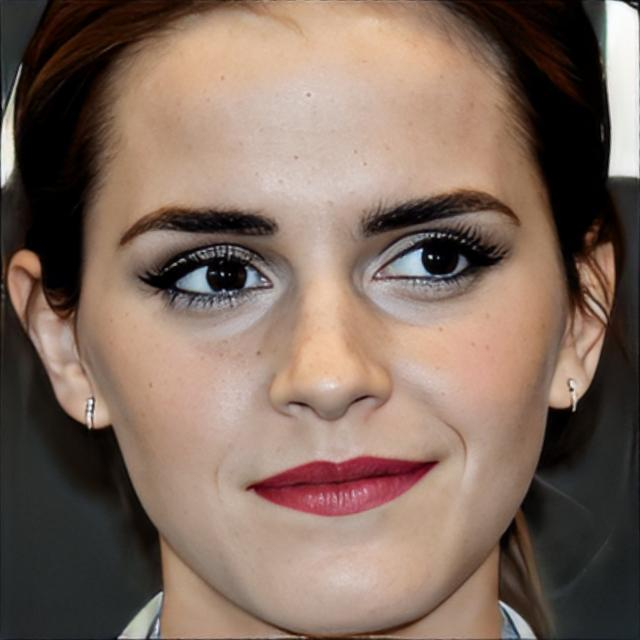content: (108, 3, 552, 640)
